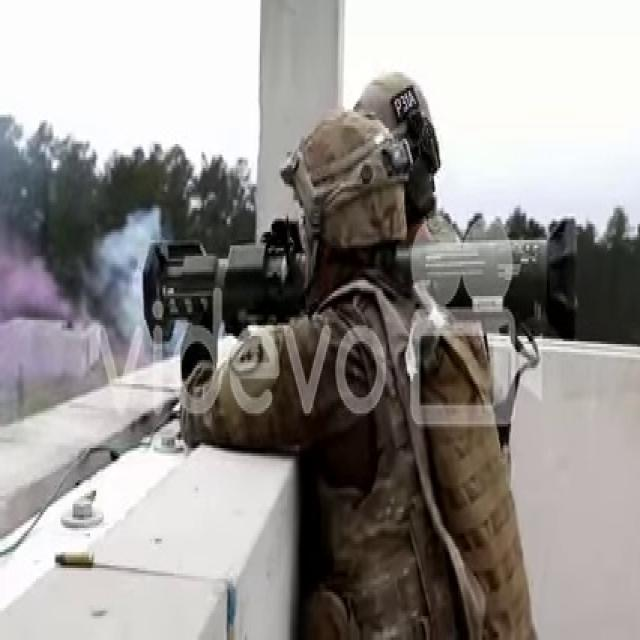bazooka: (143, 221, 592, 349)
